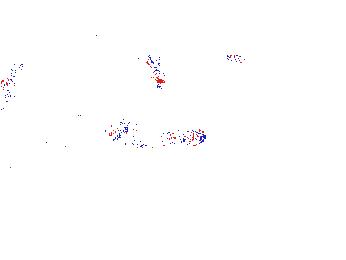X-ray fish: (74, 10, 123, 50)
glassfish: (65, 107, 142, 150), (1, 101, 57, 153)
red belly glassfish: (142, 56, 168, 91), (1, 62, 25, 91), (224, 50, 261, 62)
redtail glassfish: (114, 118, 209, 145)
